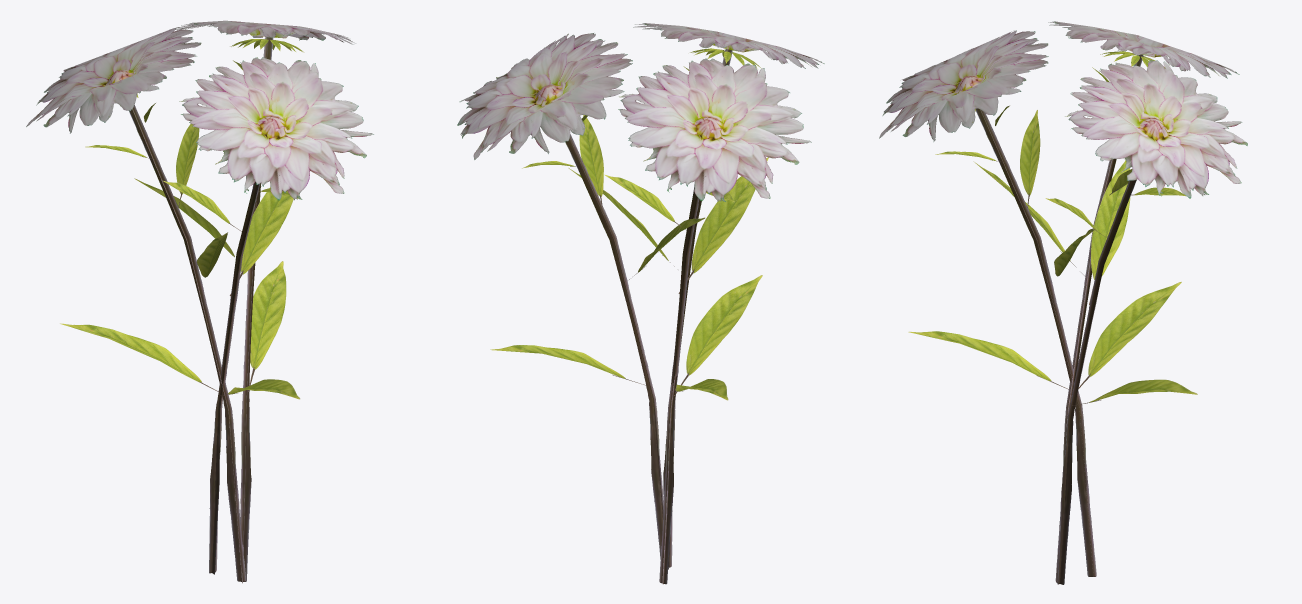
Rendered from WhiteFLower2_2.fbx.
3 views of the same model, side by side, from view 1: azimuth 30°, elevation 25°; view 2: azimuth 150°, elevation 25°; view 3: azimuth 270°, elevation 25° (orthographic).
Visible parts, largest first — view 1: WhiteFLower2_2; view 2: WhiteFLower2_2; view 3: WhiteFLower2_2.
Boxes of the visible parts, bbox=[...] form: WhiteFLower2_2: bbox=[26, 20, 373, 583]; WhiteFLower2_2: bbox=[457, 23, 824, 584]; WhiteFLower2_2: bbox=[879, 21, 1247, 584].
Size of the model in its own units: 0.171 by 0.2261 by 0.1599.
